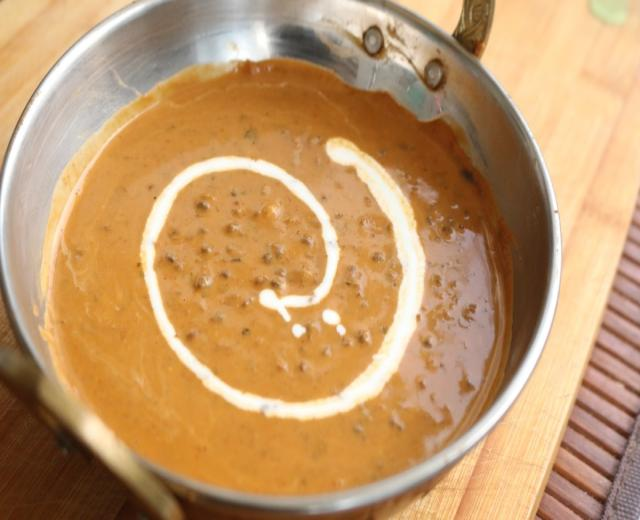dal makhni: (0, 1, 554, 517)
